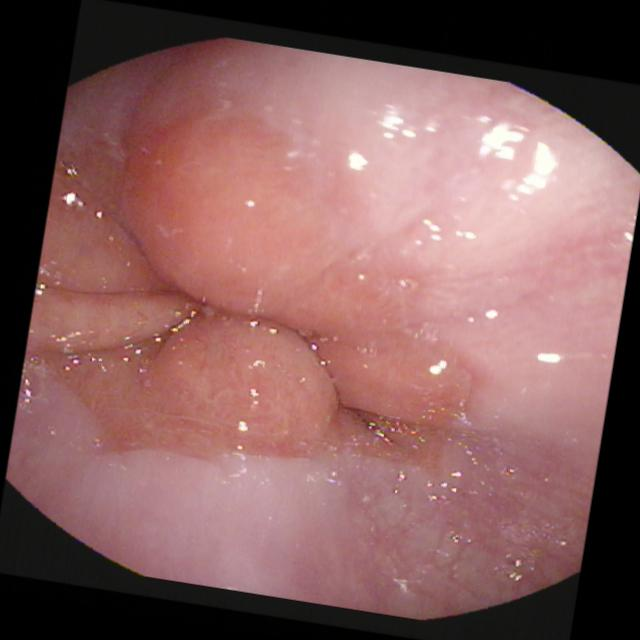Normal-Z-Line: (19, 87, 477, 478)
